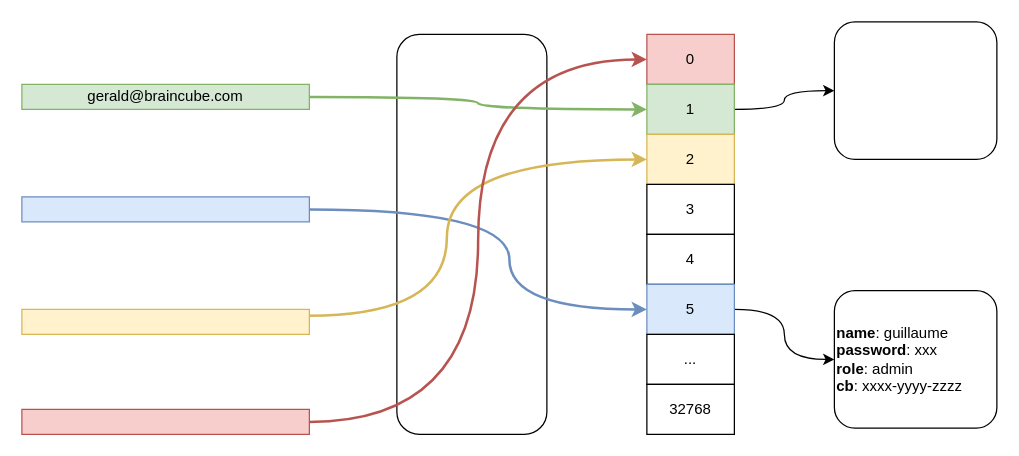
The diagram is 1019 pixels wide and 456 high, and some of its shapes have lost their labels. Each missing label, with the centre of its shape:
fonction de hachage: point 471,233
guillaume@braincube.com: point 165,209
jose@braincube.com: point 165,321
michel@braincube.com: point 165,421
name : gerald password : zzz role : user cb : cccc-bbbb-nnnn: point 915,90
